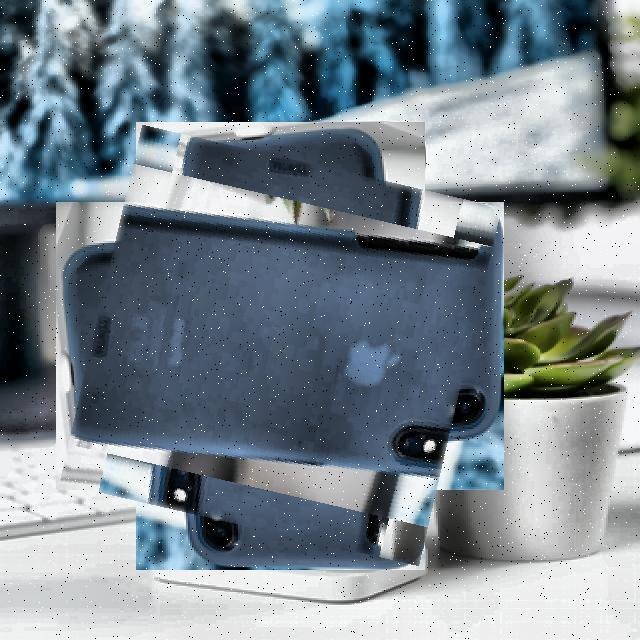Phone: (78, 144, 483, 548)
